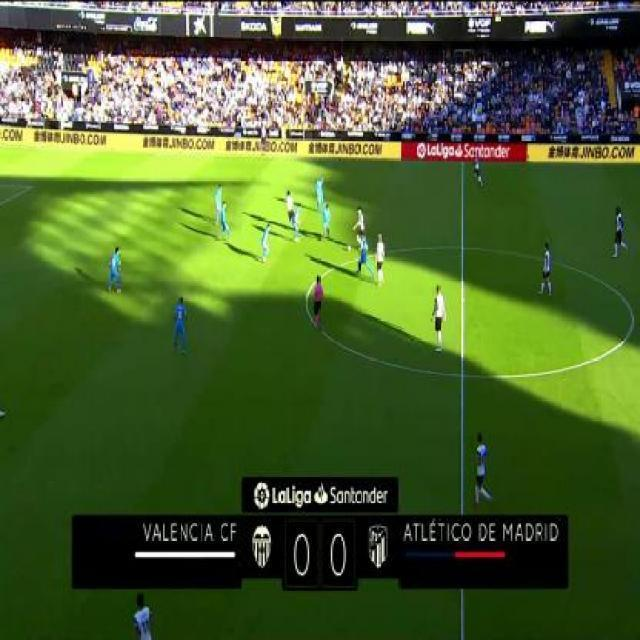ball: (345, 243, 353, 254)
player: (468, 431, 497, 507), (131, 590, 159, 640), (428, 283, 447, 354), (170, 295, 191, 359), (610, 204, 630, 260), (538, 239, 556, 297), (106, 246, 126, 297), (354, 230, 372, 281), (373, 232, 389, 288), (470, 149, 488, 191), (259, 222, 275, 268), (353, 207, 369, 249), (211, 182, 224, 228), (285, 188, 298, 230), (321, 202, 334, 244), (291, 202, 304, 241), (218, 202, 229, 242), (314, 175, 326, 211)
referee: (309, 274, 329, 337)
